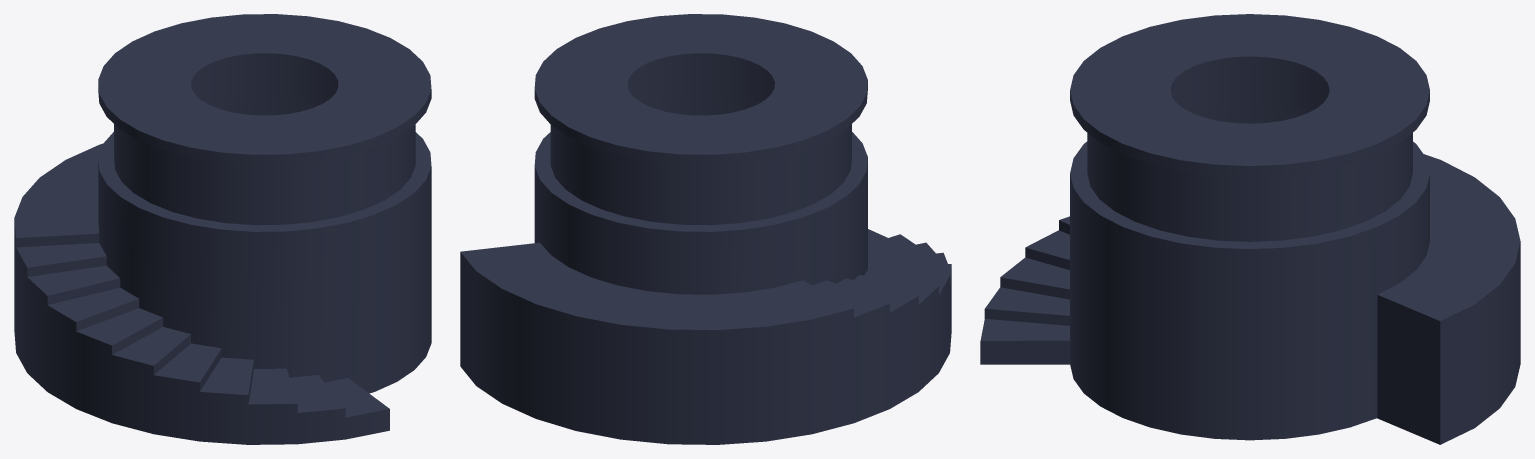
File: CentrePiece.FBX
The picture shows the model from 3 angles, left to right: view 1: azimuth 30°, elevation 25°; view 2: azimuth 150°, elevation 25°; view 3: azimuth 270°, elevation 25°; orthographic projection. The views are drawn at different scales.
Visible parts, largest first — view 1: Centrepiece, CentreStareCase; view 2: Centrepiece, CentreStareCase; view 3: Centrepiece, CentreStareCase.
Part boxes in pixels (bbox=[...]): Centrepiece: bbox=[98, 14, 431, 393]; CentreStareCase: bbox=[14, 143, 389, 444]; Centrepiece: bbox=[534, 14, 867, 294]; CentreStareCase: bbox=[460, 229, 951, 444]; Centrepiece: bbox=[1070, 14, 1429, 440]; CentreStareCase: bbox=[980, 154, 1520, 444].
Size of the model in its own units: 12.79 by 8.42 by 15.
